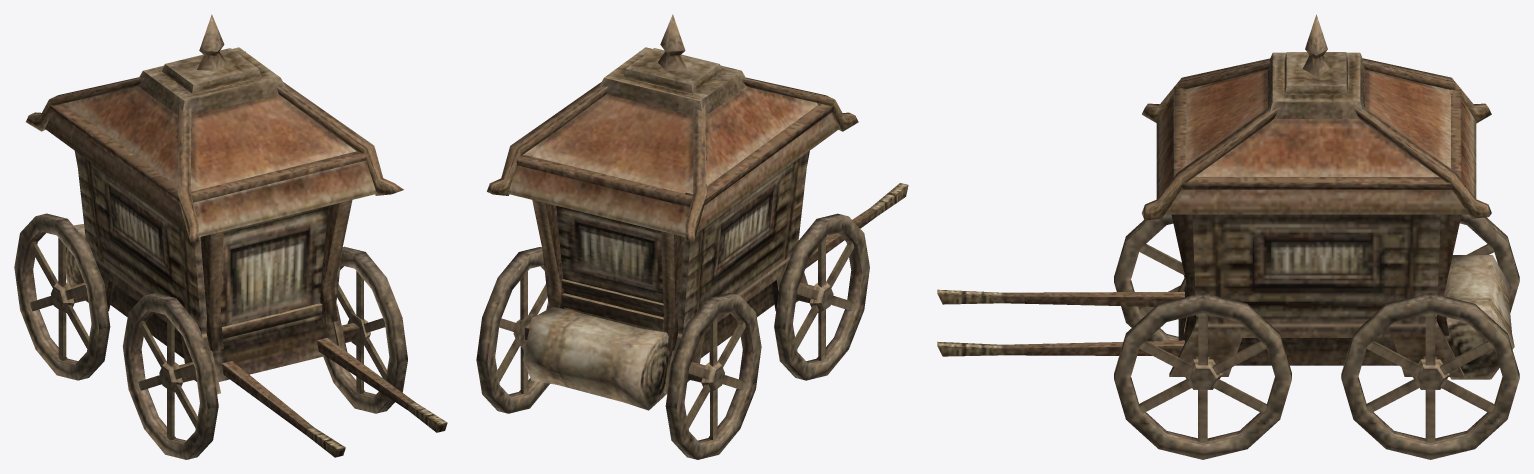
Rendered from desert_carriage01.glb.
The picture shows the model from 3 angles, left to right: view 1: azimuth 30°, elevation 25°; view 2: azimuth 150°, elevation 25°; view 3: azimuth 270°, elevation 25°; orthographic projection. The views are drawn at different scales.
Visible parts, largest first — view 1: Bip01; view 2: Bip01; view 3: Bip01.
Part boxes in pixels (left/top/right/bottom): Bip01: left=14, top=14, right=447, bottom=459; Bip01: left=476, top=14, right=908, bottom=459; Bip01: left=937, top=14, right=1519, bottom=459.
Size of the model in its own units: 2.58 by 4.33 by 5.78.
Materials: 1 (1 with a texture image).
